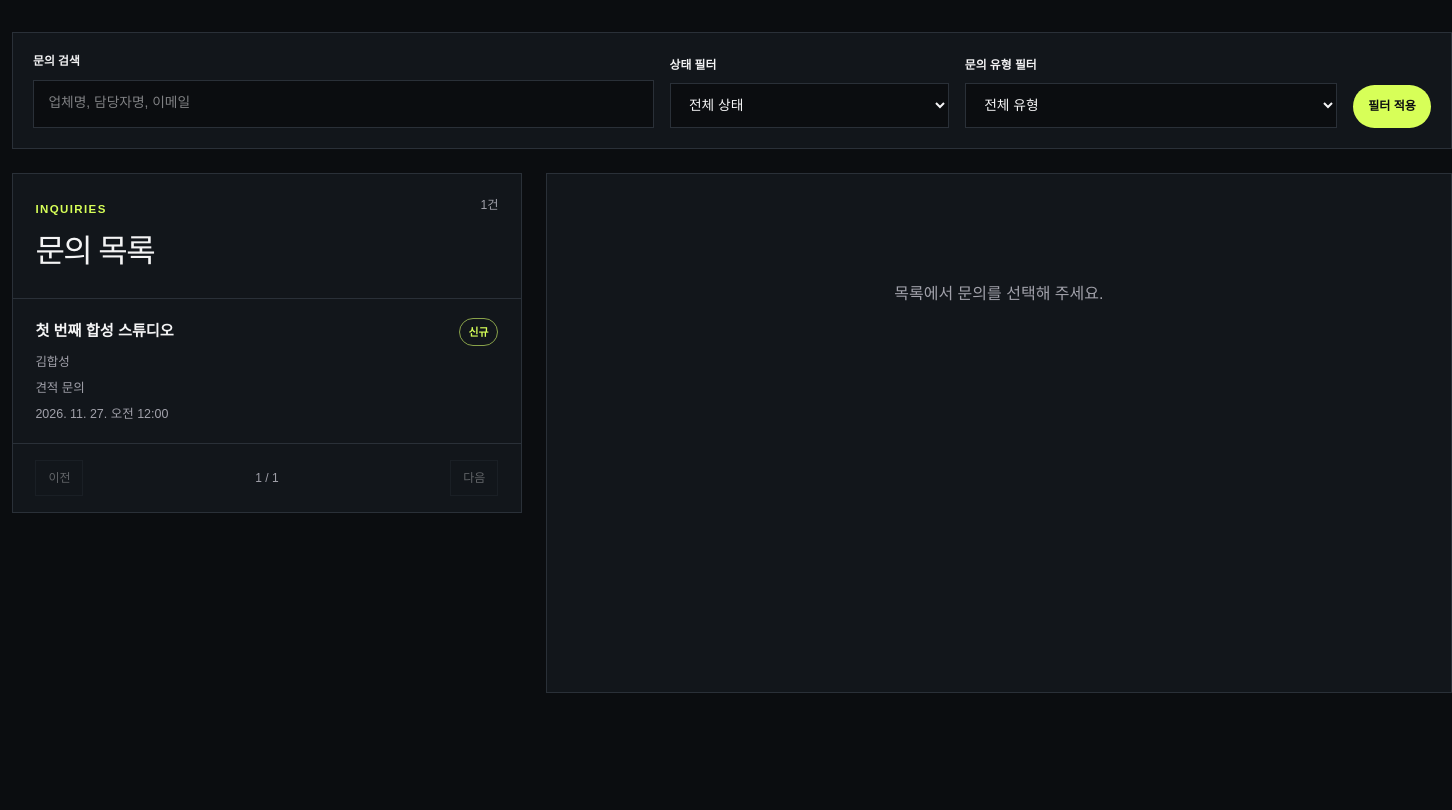
관리자 문의 관리 화면 › 상세 조회에서 인증이 만료되면 기존 문의 목록도 즉시 숨긴다
Click the button with aria-label "첫 번째 합성 스튜디오 김합성": (105, 331) [13, 299, 521, 443]
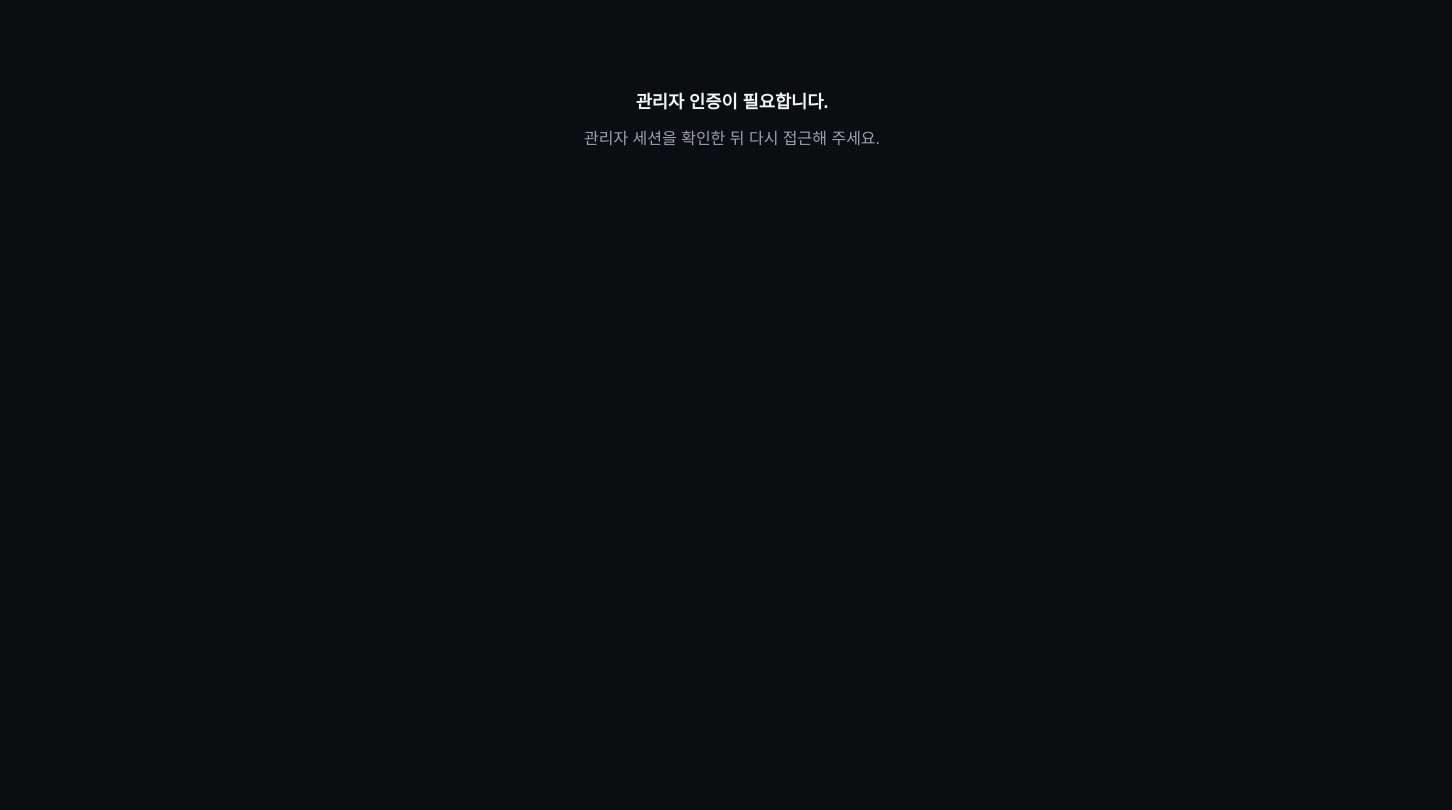
Now the message shows "관리자 인증이 필요합니다.", box [636, 92, 828, 112]
Now the heading "문의 목록" is gone
Now the button "첫 번째 합성 스튜디오" is gone
